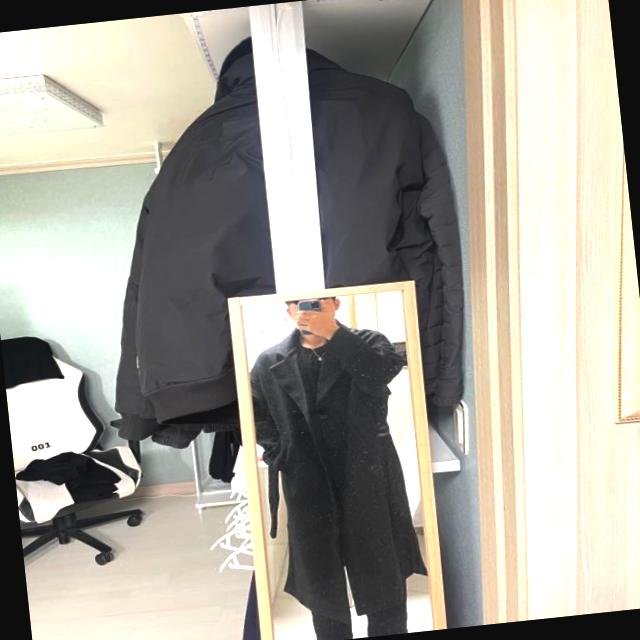coat: (244, 314, 427, 624)
